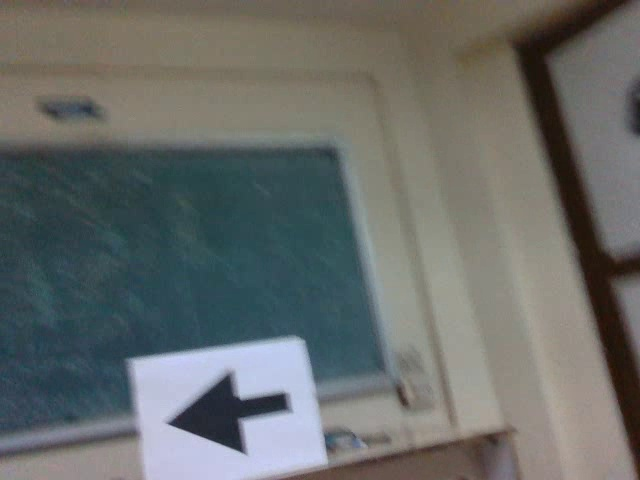Left: (161, 366, 295, 459)
